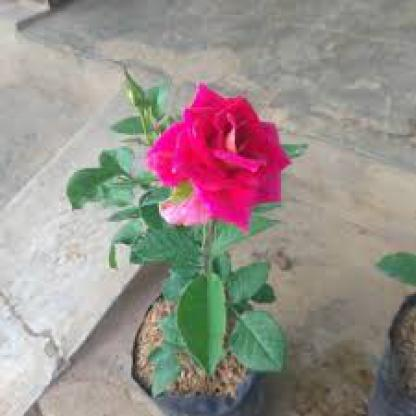Rose-Mawar: (142, 70, 292, 227)
